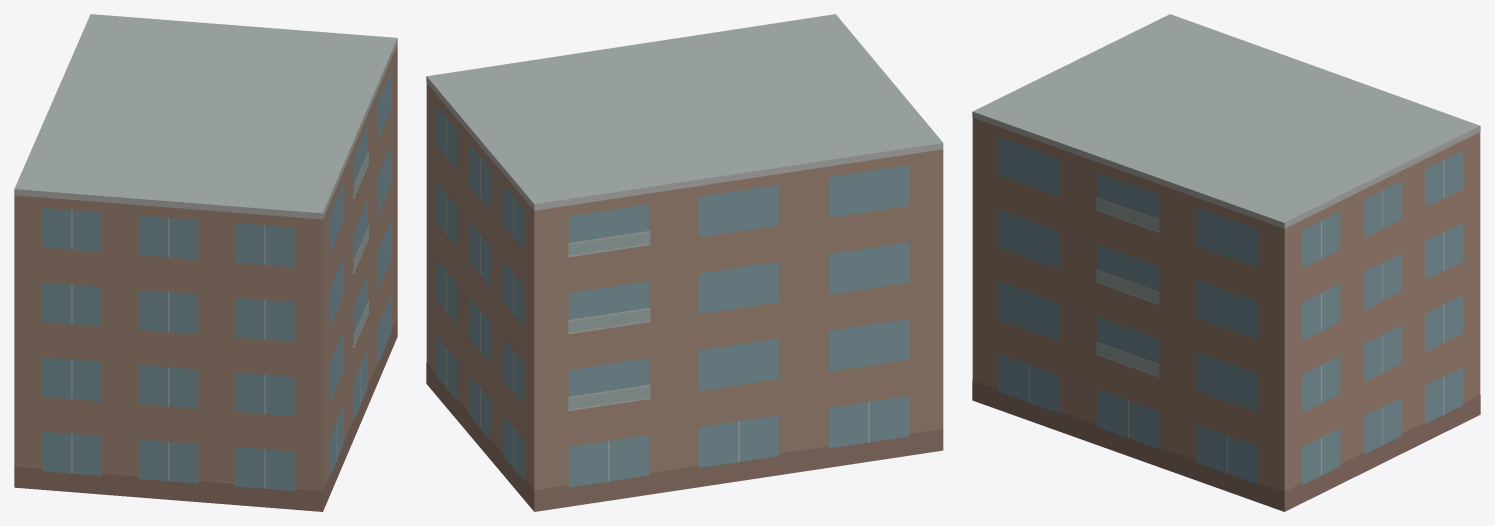
Rendered from survey-upis-33008953.glb.
The picture shows the model from 3 angles, left to right: view 1: azimuth 30°, elevation 25°; view 2: azimuth 150°, elevation 25°; view 3: azimuth 270°, elevation 25°; orthographic projection. The views are drawn at different scales.
Visible parts, largest first — view 1: survey-upis-33008953.tmp; view 2: survey-upis-33008953.tmp; view 3: survey-upis-33008953.tmp.
Part boxes in pixels (box(x1,y1,x2,y2)): survey-upis-33008953.tmp: box(14, 14, 397, 511); survey-upis-33008953.tmp: box(426, 14, 943, 511); survey-upis-33008953.tmp: box(972, 14, 1480, 511).
Bounding box in the file's own units: 18.31 × 11.8 × 18.81.
